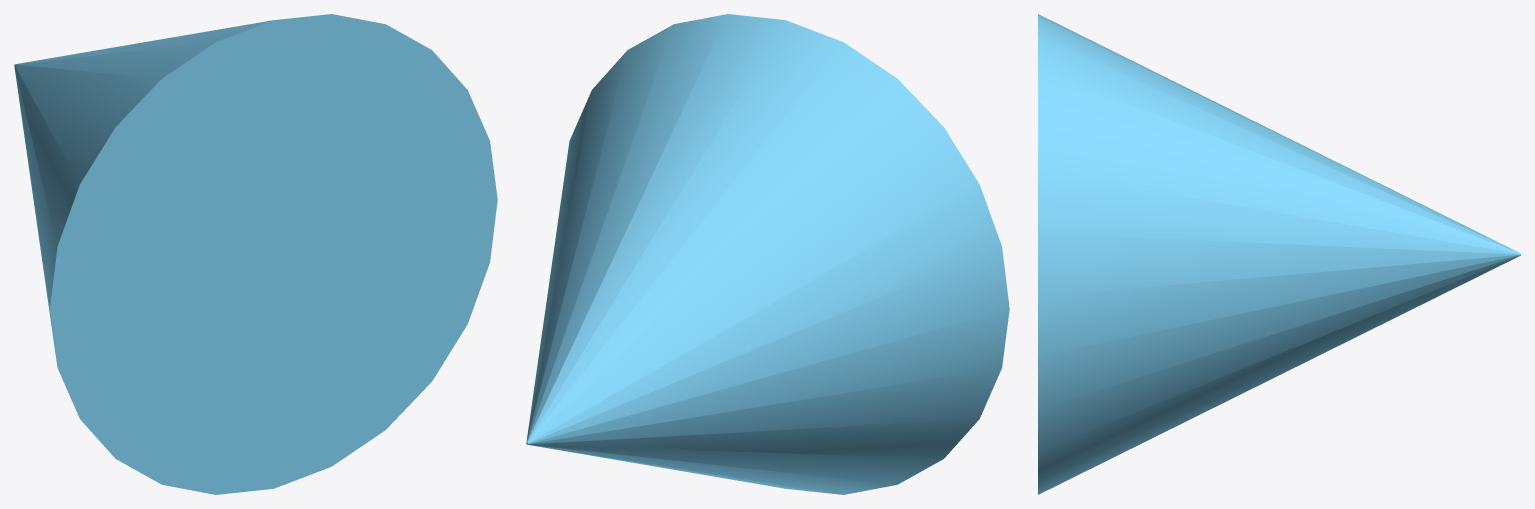
File: vec_061.dae
The picture shows the model from 3 angles, left to right: view 1: azimuth 30°, elevation 25°; view 2: azimuth 150°, elevation 25°; view 3: azimuth 270°, elevation 25°; orthographic projection. The views are drawn at different scales.
Visible parts, largest first — view 1: Model; view 2: Model; view 3: Model.
Part boxes in pixels (left/top/right/bottom): Model: left=14, top=14, right=497, bottom=494; Model: left=526, top=14, right=1009, bottom=494; Model: left=1038, top=14, right=1520, bottom=494.
Size of the model in its own units: 1 by 1 by 1.
